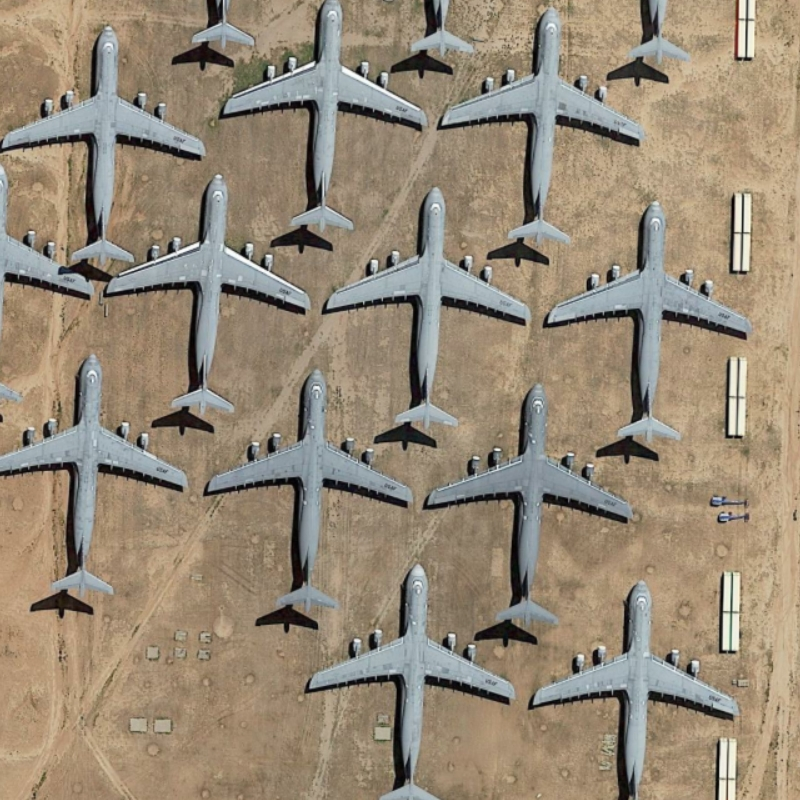A4: (423, 378, 642, 631), (543, 194, 757, 447), (204, 365, 418, 618), (296, 559, 520, 800), (321, 183, 537, 430), (99, 173, 316, 418), (434, 3, 649, 248), (2, 18, 213, 266), (215, 1, 432, 239), (4, 351, 193, 613), (528, 569, 745, 795)
